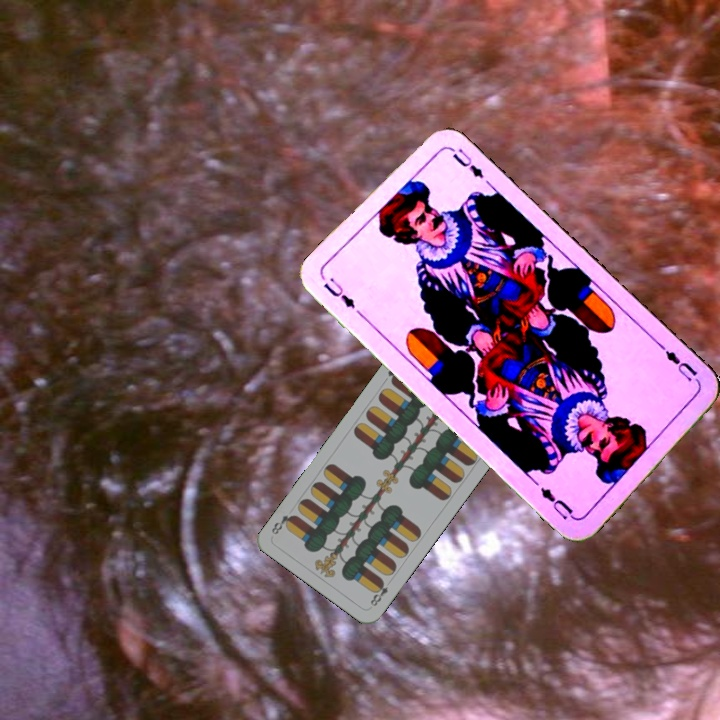E8: (366, 576, 391, 609)
EU: (655, 340, 700, 385), (319, 275, 358, 312)
